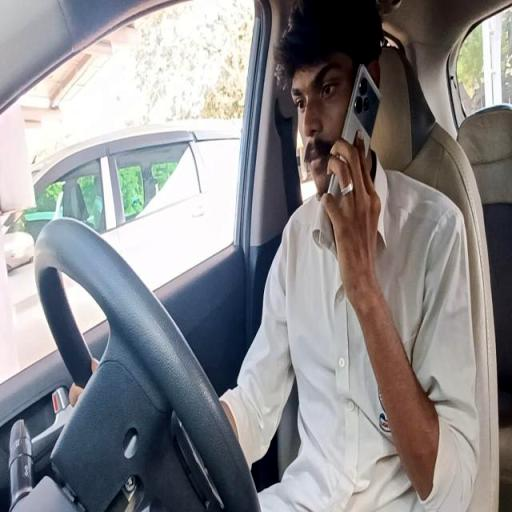Talking_on_phone: (274, 0, 472, 501)
